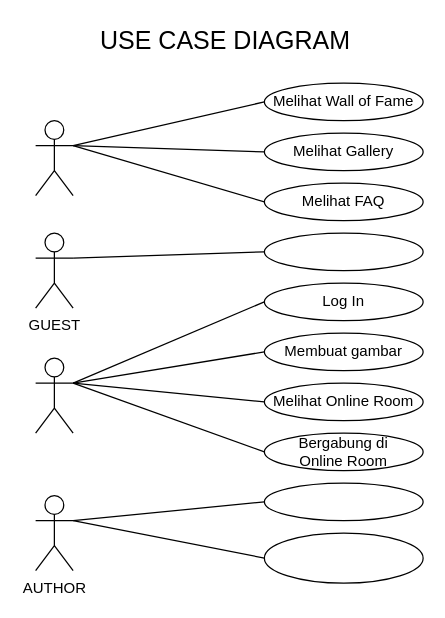
This 445x618 diagram has some shape labels left out. Here are the shapes that lost their labels. From the top down, the centre of each, then its label:
At point 53,157: "USER".
At point 343,251: "Register".
At point 53,395: "MEMBER".
At point 343,501: "Mengundang user lain".
At point 343,557: "Menyetujui/Menolak kontributor".
